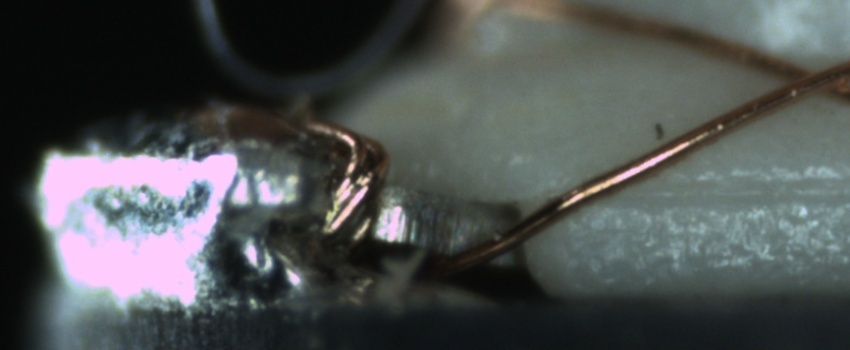CL: (766, 47, 848, 105)
DL: (612, 160, 849, 218)
TE: (295, 103, 399, 250)
